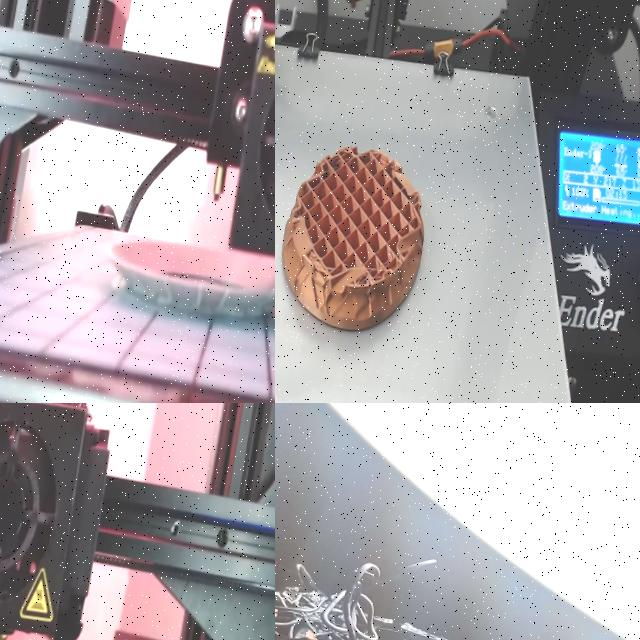spaghetti: (275, 564, 395, 640)
